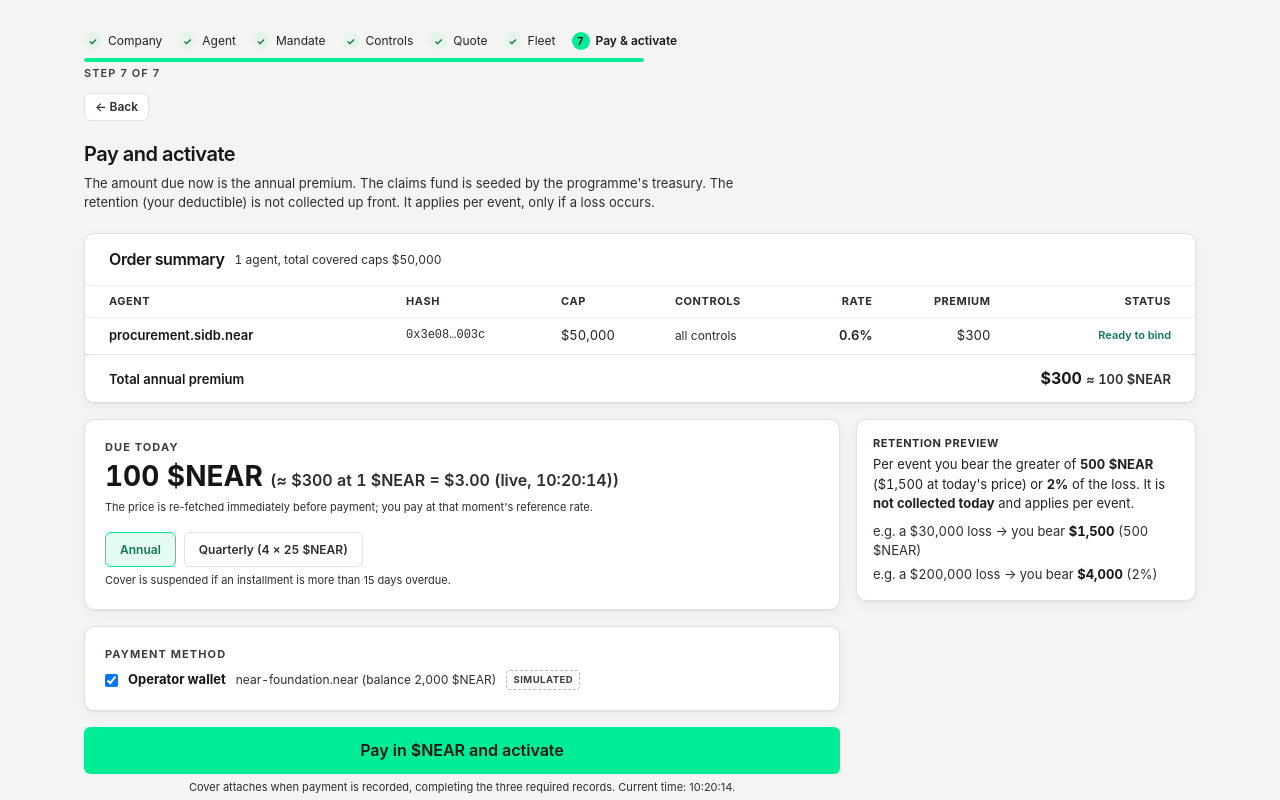
7.8 — pay and activate (REQ-7.8.2, AC-7) › pays at the re-fetched rate, stamps conversionRateAtPayment + effectiveAt, activates
The image size is (1280, 800).
Click the button with test id "pay-button" at (462, 751), box x1=84 y1=727 x2=840 y2=774
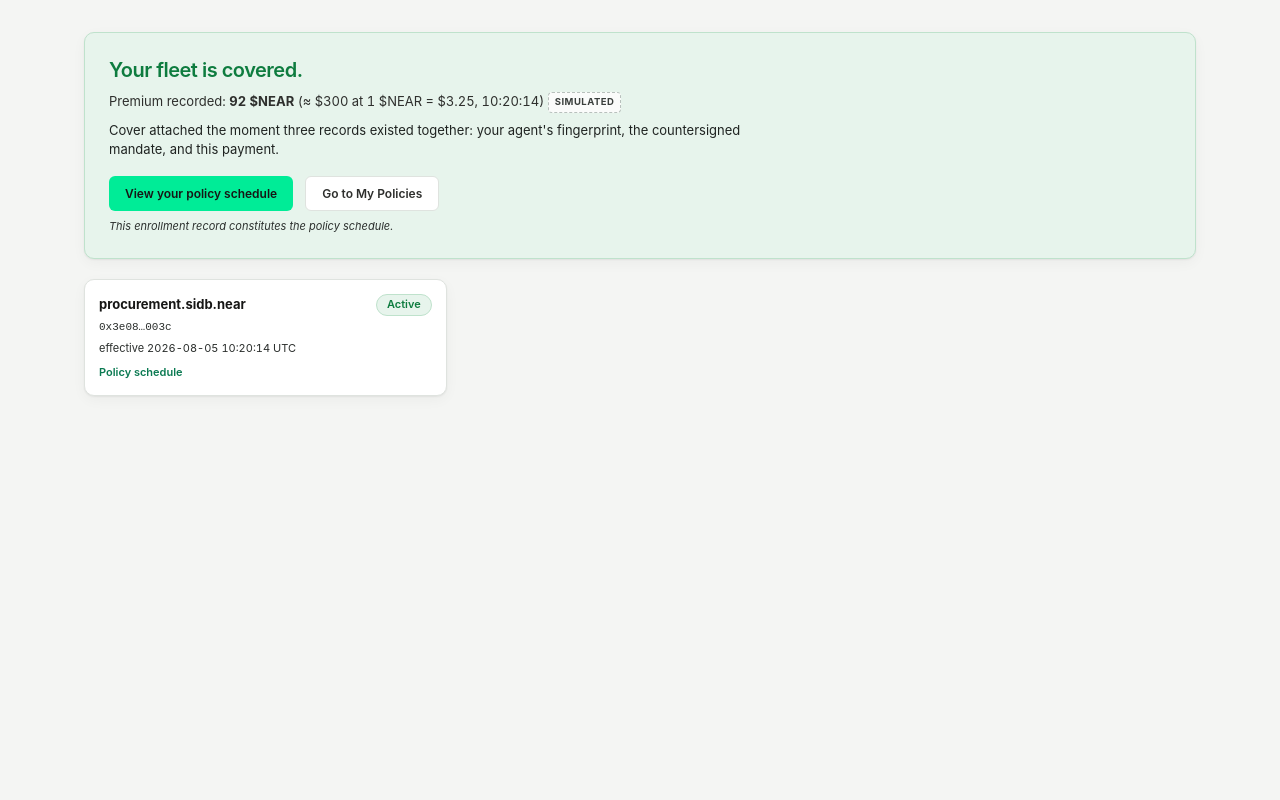
Check: the element with test id "activation-ceremony" is shown, box x1=84 y1=32 x2=1196 y2=259
Check: the text "Active" is shown, box x1=376 y1=294 x2=432 y2=316
Check: the element with test id "premium-recorded-line" shows "$3.25", box x1=109 y1=92 x2=621 y2=113
